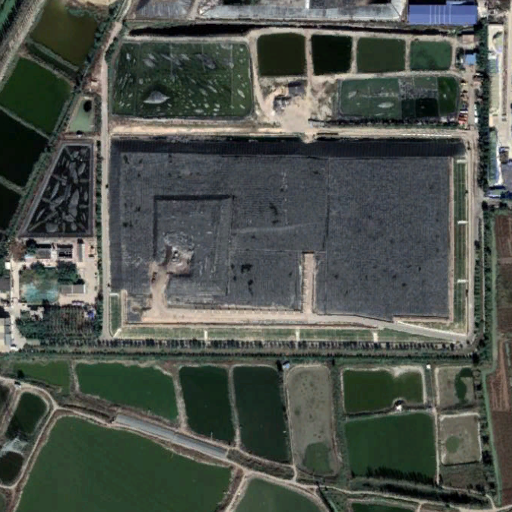lf: (110, 134, 453, 326)
